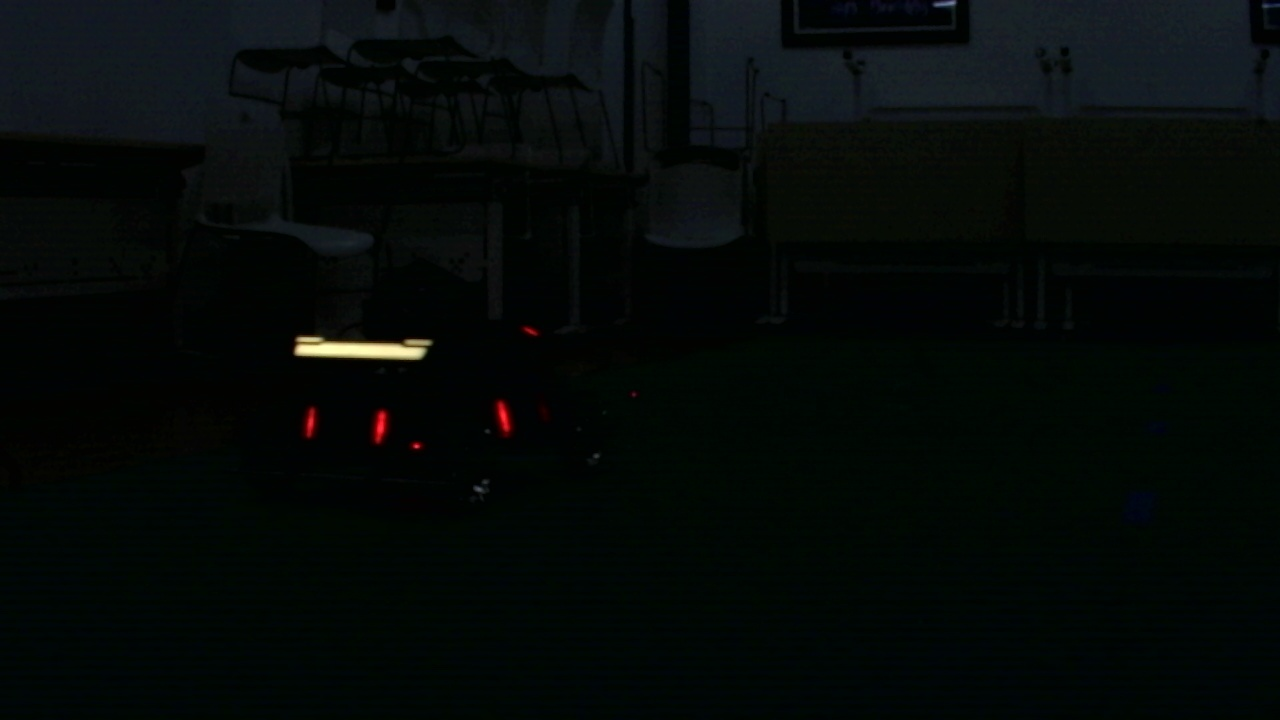lamp: (373, 404, 392, 446), (490, 399, 512, 435), (304, 403, 315, 442)
pair1: (303, 408, 390, 442)
